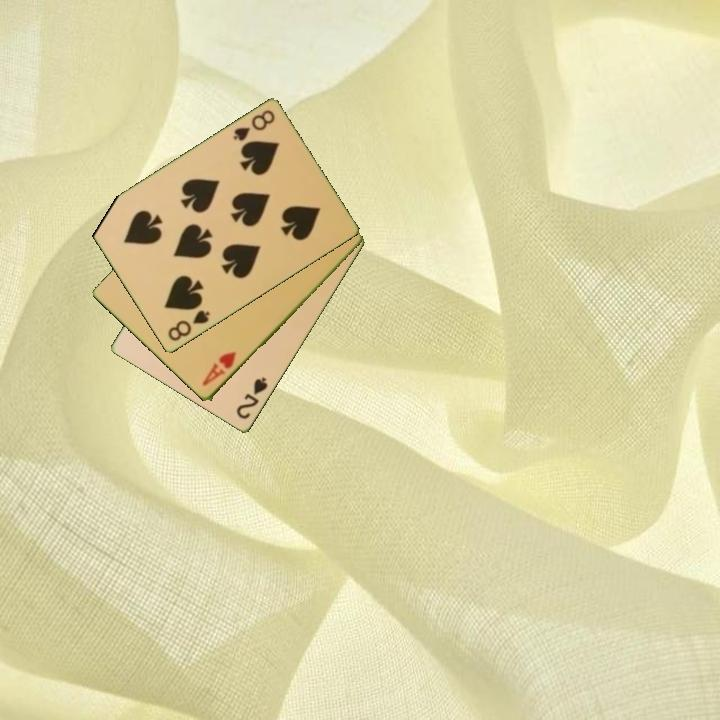2s: (233, 374, 271, 423)
8s: (164, 307, 213, 344), (230, 107, 278, 144)
Ah: (199, 348, 239, 390)
